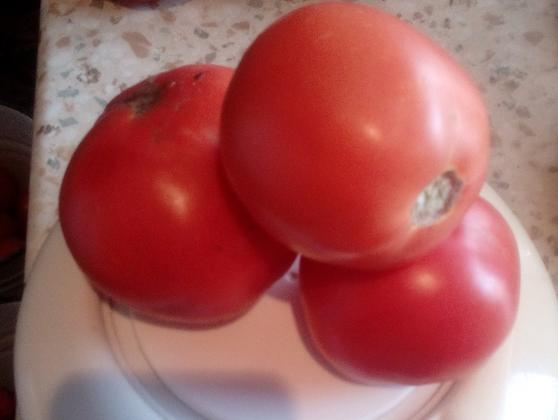tomato: (219, 1, 494, 263)
